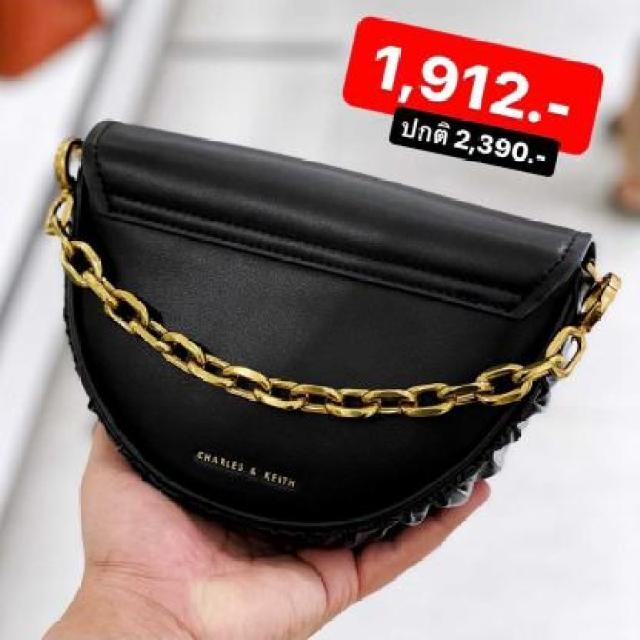Bag: (0, 108, 634, 568)
